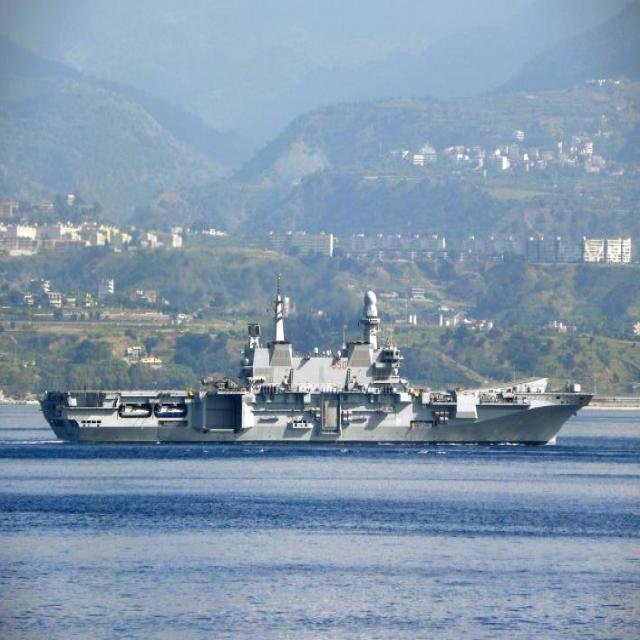Portanaves: (40, 282, 597, 458)
